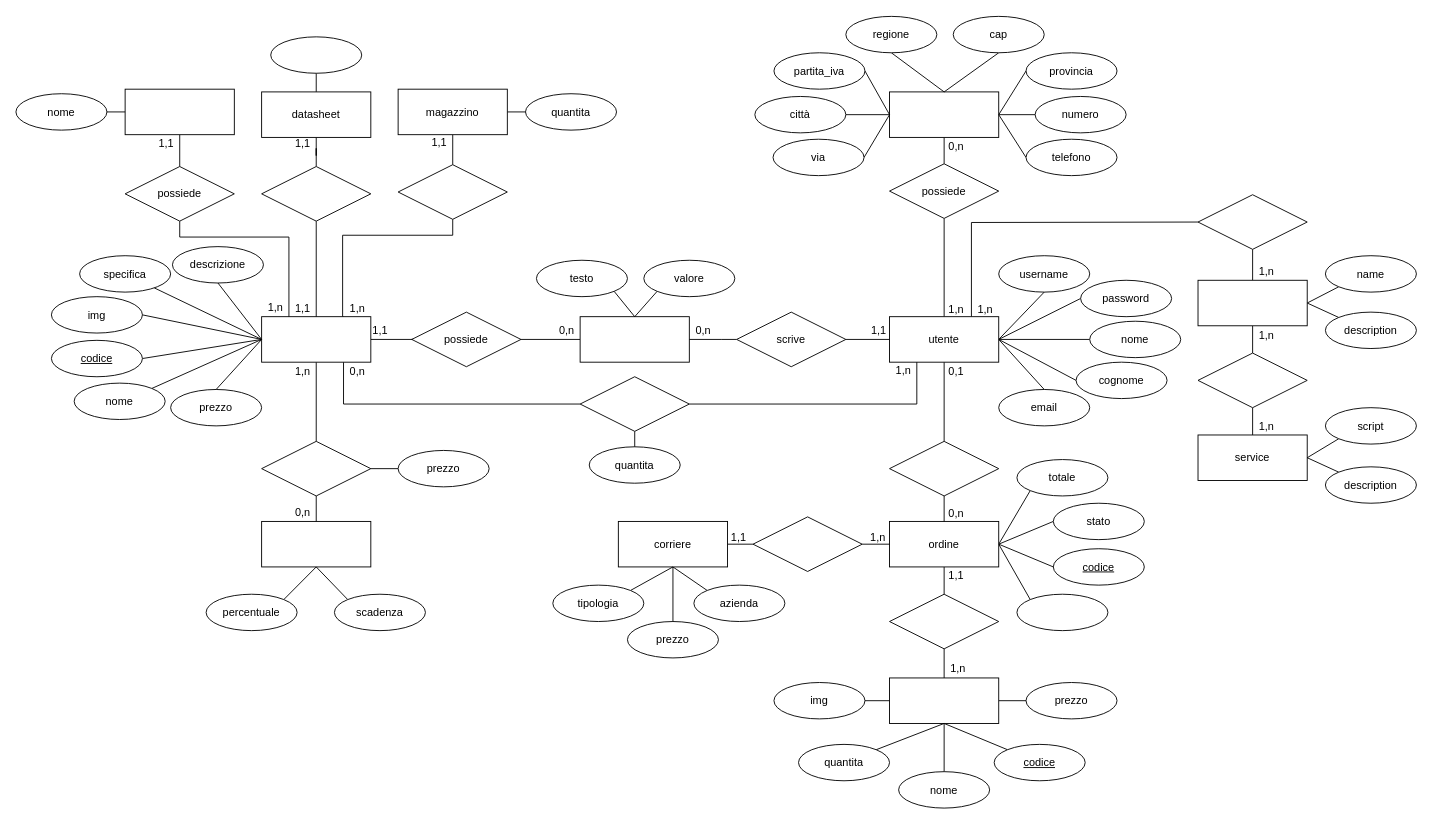
Some shapes in this 1432 by 824 pixel diagram are drawn without their labels. Each missing label, with the centre of its shape:
"associato" belongs at pixel 316 193.
"categoria" belongs at pixel 179 111.
"data" belongs at pixel 1062 612.
"emana" belongs at pixel 944 468.
"genera" belongs at pixel 944 621.
"include" belongs at pixel 807 543.
"indirizzo" belongs at pixel 944 114.
"offerta" belongs at pixel 316 544.
"path" belongs at pixel 316 54.
"prodotto" belongs at pixel 316 339.
"prodotto_carrello" belongs at pixel 634 403.
"prodotto_offerta" belongs at pixel 316 468.
"prodotto_ordine" belongs at pixel 944 700.
"recensione" belongs at pixel 634 339.
"ugroup" belongs at pixel 1252 302.
"ugroup_has_service" belongs at pixel 1252 380.
"user_has_group" belongs at pixel 1252 221.
"è contenuto" belongs at pixel 452 191.
